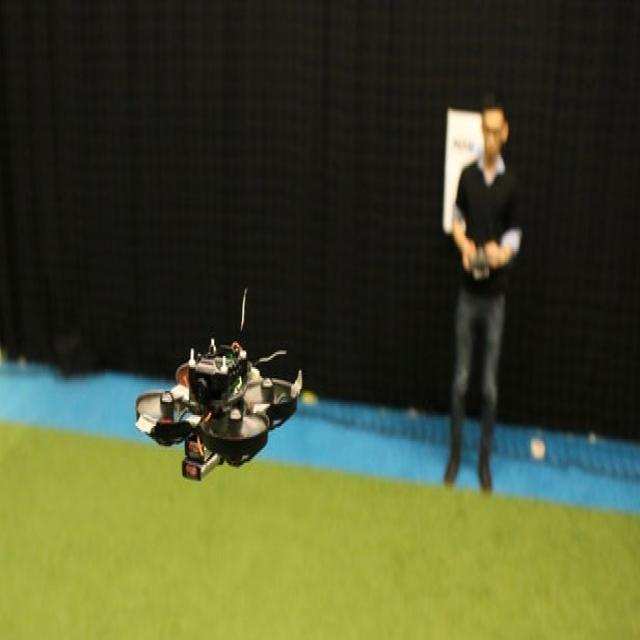drone: (127, 321, 310, 474)
